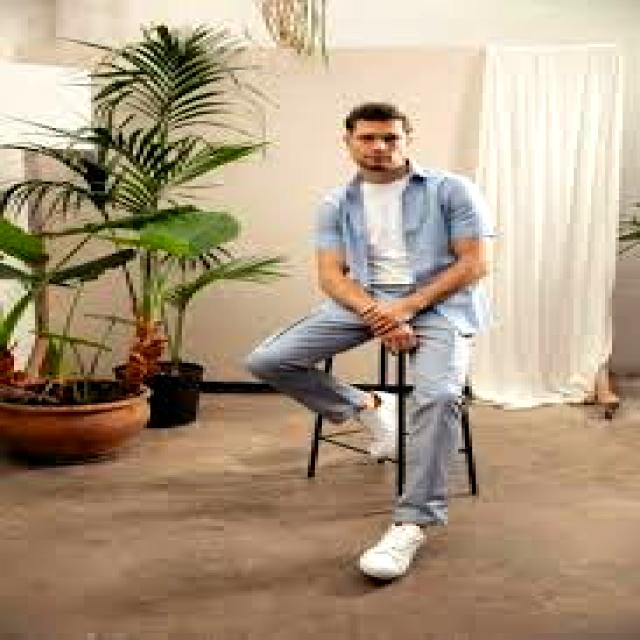foot-wear: (361, 524, 426, 581), (357, 391, 398, 460)
lower-wear: (396, 310, 468, 523)
top-wear: (317, 168, 492, 332)
